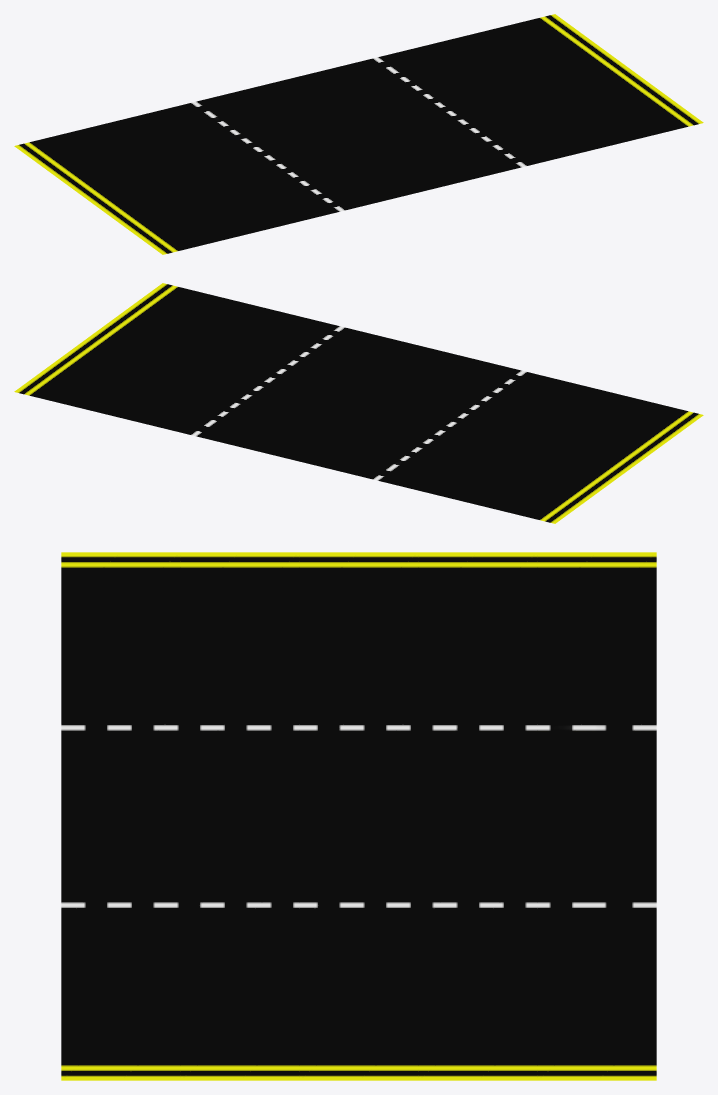
File: road.obj
The picture shows the model from 3 angles, top to bottom: view 1: azimuth 30°, elevation 25°; view 2: azimuth 150°, elevation 25°; view 3: azimuth 270°, elevation 25°; orthographic projection. The views are drawn at different scales.
Parts seen in each view (by area): view 1: pPlane1; view 2: pPlane1; view 3: pPlane1.
Part boxes in pixels (x1,y1,x2,y2): pPlane1: (14,14,703,254); pPlane1: (14,283,703,523); pPlane1: (61,552,656,1080).
Bounding box in the file's own units: 21 × 0 × 10.
Materials: 1 (1 with a texture image).
